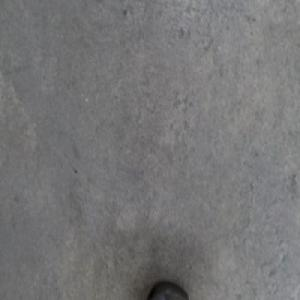AdjustableWrench: (148, 280, 188, 298)
